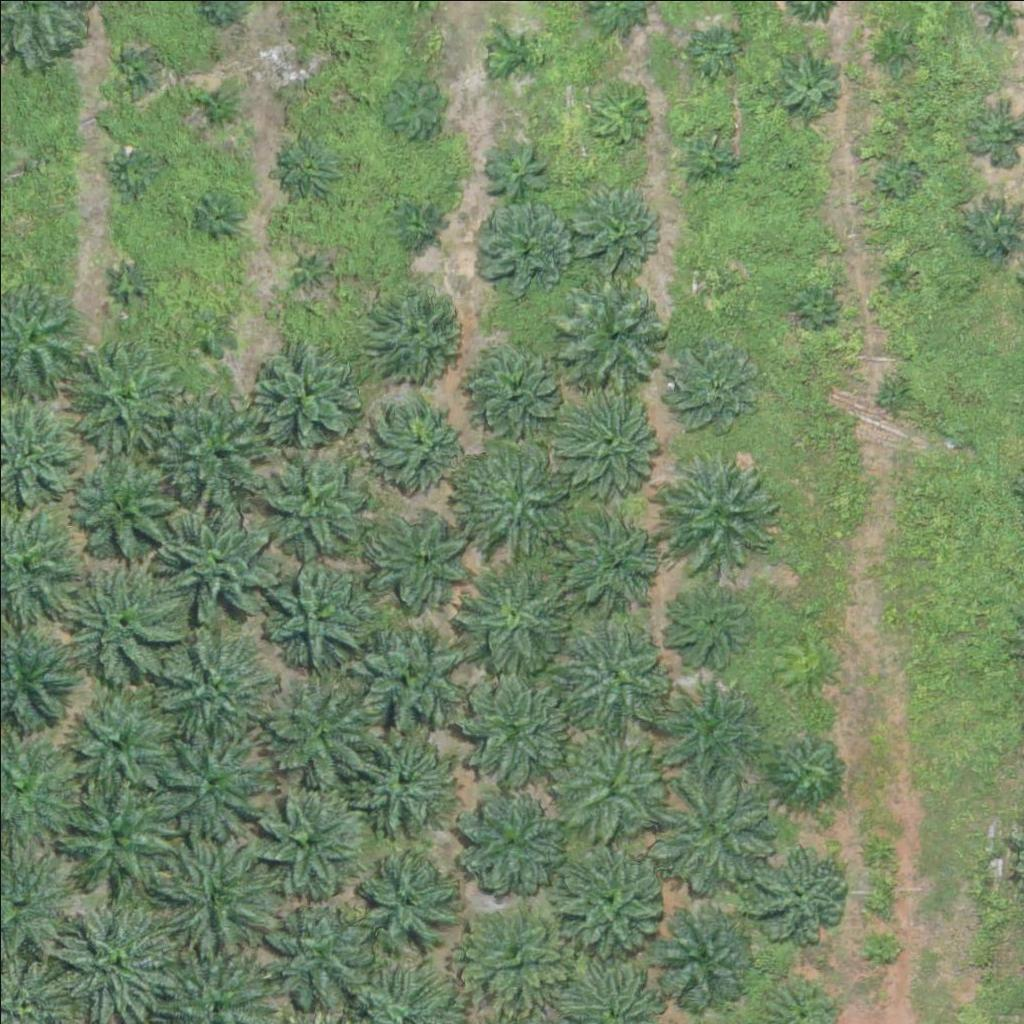Kelapa_Sawit: (163, 828, 288, 954), (653, 769, 778, 895), (660, 449, 785, 575), (250, 435, 375, 561), (147, 720, 272, 846), (149, 626, 274, 752), (154, 491, 279, 617), (154, 376, 279, 502), (57, 781, 182, 907), (53, 682, 178, 808), (57, 561, 182, 687), (67, 448, 192, 574), (448, 435, 573, 560), (462, 900, 575, 1013), (550, 839, 663, 952), (452, 789, 565, 902), (344, 719, 457, 832), (561, 279, 674, 392), (457, 674, 570, 787), (457, 561, 570, 674), (359, 623, 472, 736), (245, 333, 358, 446), (266, 671, 378, 785), (259, 894, 371, 1007), (352, 841, 464, 954), (251, 785, 363, 898), (553, 723, 665, 836), (652, 672, 764, 785), (557, 616, 669, 729), (555, 383, 667, 496), (264, 559, 376, 672), (67, 333, 179, 446), (653, 902, 753, 1003), (664, 335, 764, 436), (561, 507, 661, 608), (463, 335, 563, 436), (373, 507, 473, 608), (371, 390, 471, 491), (373, 277, 473, 378), (468, 200, 568, 301), (749, 840, 849, 940), (665, 583, 752, 671), (568, 180, 655, 268), (768, 730, 843, 806), (379, 70, 454, 145), (960, 198, 1023, 261), (677, 125, 740, 188), (781, 56, 843, 119), (276, 134, 338, 197), (485, 143, 547, 206), (587, 80, 649, 143), (491, 32, 541, 83), (191, 85, 241, 136), (692, 26, 742, 76), (193, 195, 243, 245), (107, 48, 157, 98), (104, 258, 154, 308), (108, 147, 158, 197), (288, 243, 338, 293), (185, 312, 235, 362), (880, 159, 918, 197), (876, 257, 914, 295), (875, 376, 913, 414), (873, 33, 911, 71), (862, 925, 899, 963), (398, 202, 436, 239), (690, 264, 728, 301), (795, 283, 832, 321), (286, 57, 311, 82), (776, 146, 801, 171)
